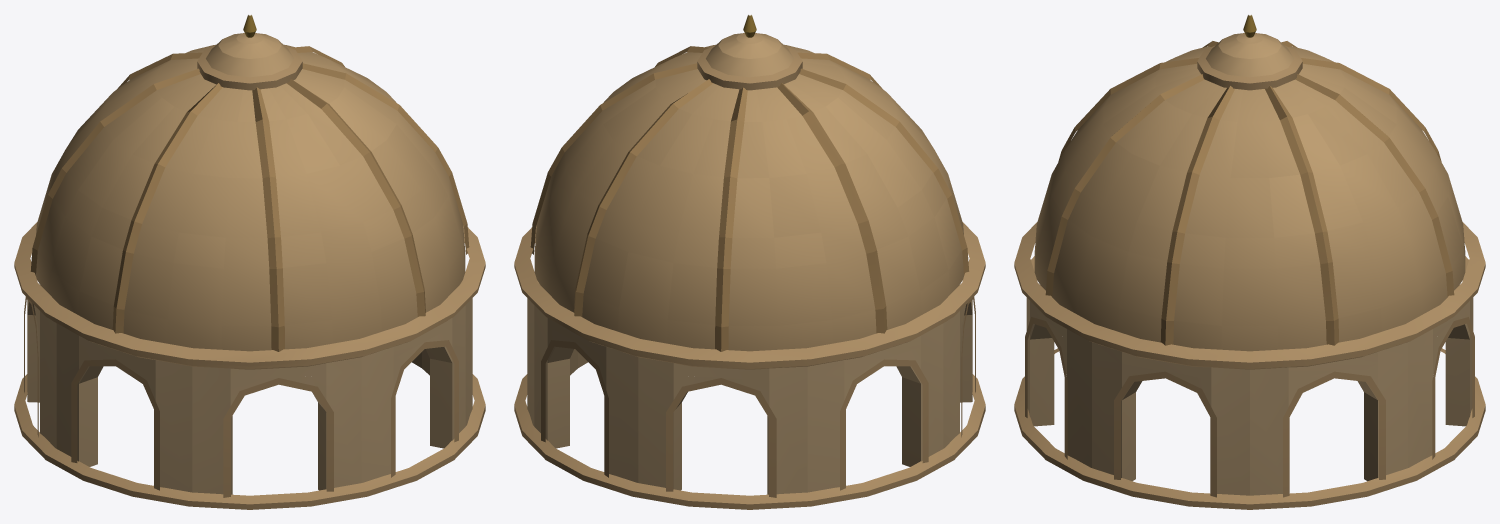
The model's file is dome.whole_8.sandstone.glb.
The picture shows the model from 3 angles, left to right: view 1: azimuth 30°, elevation 25°; view 2: azimuth 150°, elevation 25°; view 3: azimuth 270°, elevation 25°; orthographic projection.
Visible parts, largest first — view 1: dome_whole_8_sandstone; view 2: dome_whole_8_sandstone; view 3: dome_whole_8_sandstone.
Part boxes in pixels (<box>): dome_whole_8_sandstone: <box>14,15,485,509</box>; dome_whole_8_sandstone: <box>514,15,985,509</box>; dome_whole_8_sandstone: <box>1014,15,1485,509</box>.
Size of what is drawn, in the model's own units: 7.6 by 7.03 by 7.6.
